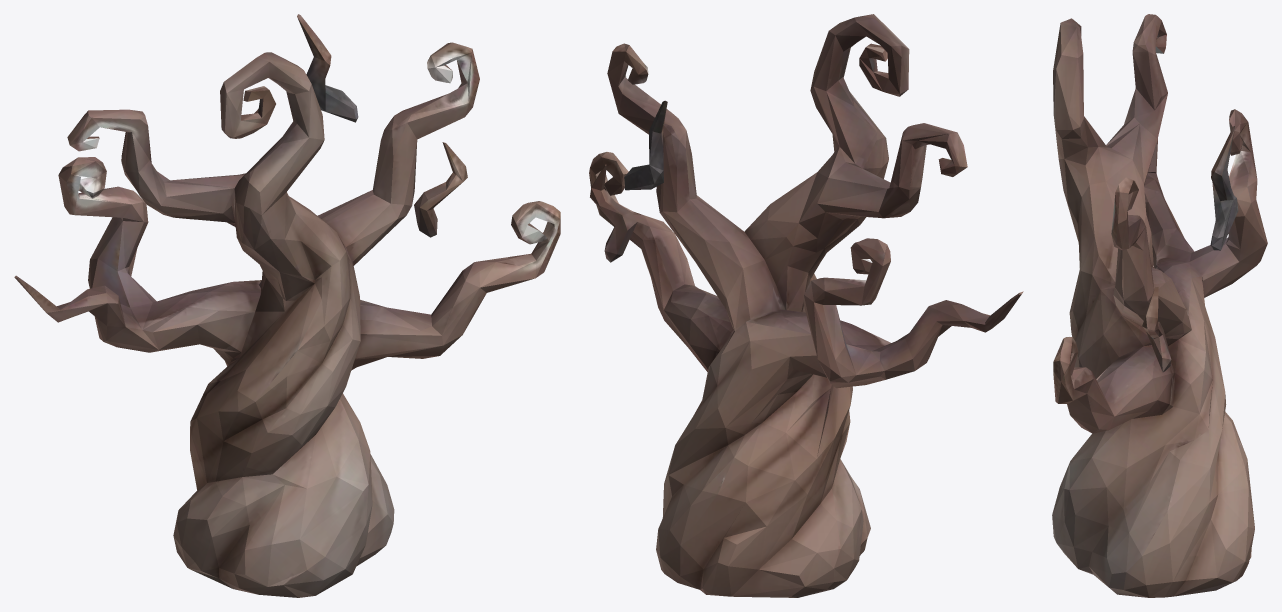
The model's file is tree_dead.glb.
The picture shows the model from 3 angles, left to right: view 1: azimuth 30°, elevation 25°; view 2: azimuth 150°, elevation 25°; view 3: azimuth 270°, elevation 25°; orthographic projection. The views are drawn at different scales.
Parts seen in each view (by area): view 1: tmp7a37oh2_.ply; view 2: tmp7a37oh2_.ply; view 3: tmp7a37oh2_.ply.
Part boxes in pixels (box(x1,y1,x2,y2)): tmp7a37oh2_.ply: box(14, 14, 560, 597); tmp7a37oh2_.ply: box(589, 14, 1023, 597); tmp7a37oh2_.ply: box(1052, 14, 1267, 597).
Size of the model in its own units: 1.88 by 1.99 by 0.7591.
Materials: 1 (1 with a texture image).
